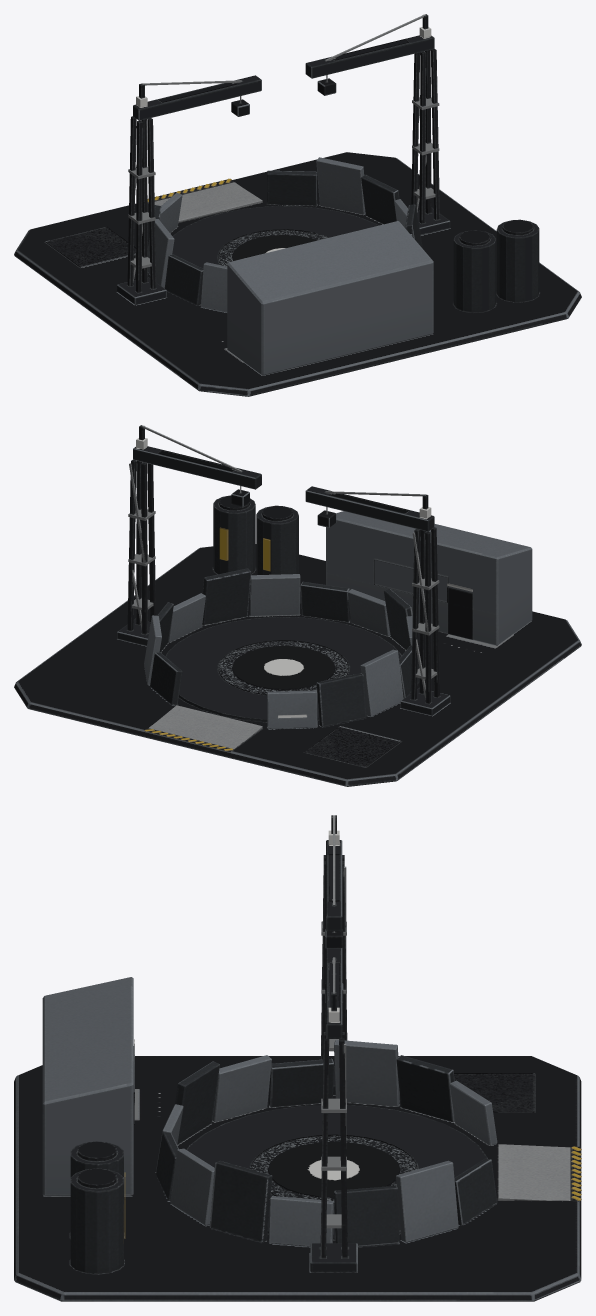
Rendered from chs_botlab.fbx.
3 views of the same model, one above another, from view 1: azimuth 30°, elevation 25°; view 2: azimuth 150°, elevation 25°; view 3: azimuth 270°, elevation 25° (orthographic). The views are drawn at different scales.
Visible parts, largest first — view 1: base_bar; view 2: base_bar, base_glow_power_bar; view 3: base_bar.
Boxes of the visible parts, x1,y1,x2,y2 form: base_bar: (14,14,581,396); base_bar: (14,425,581,786); base_glow_power_bar: (264,659,303,675); base_bar: (14,815,581,1301).
Size of the model in its own units: 3114 by 1886 by 3117.
2 materials, 2 textured.
